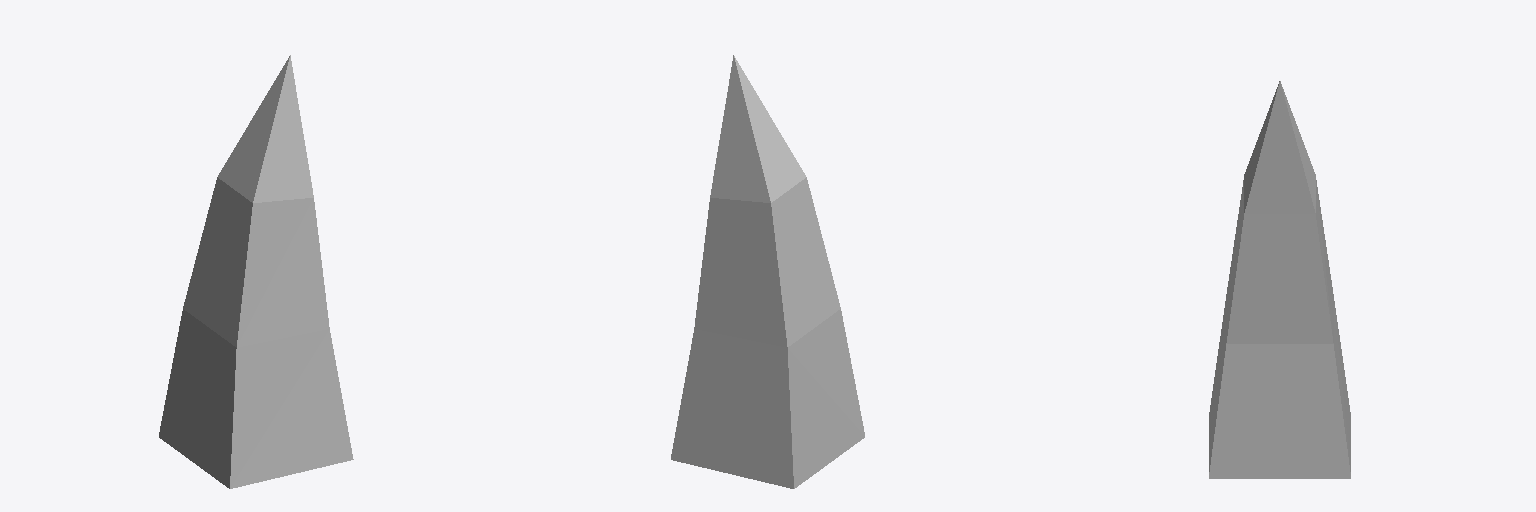
Rendered from skeletal_000003.obj.
3 views of the same model, side by side, from view 1: azimuth 30°, elevation 25°; view 2: azimuth 150°, elevation 25°; view 3: azimuth 270°, elevation 25° (orthographic).
Visible parts, largest first — view 1: Cube; view 2: Cube; view 3: Cube.
Boxes of the visible parts, box(x1,y1,x2,y2) form: Cube: box(159, 55, 353, 488); Cube: box(671, 55, 864, 488); Cube: box(1209, 81, 1350, 478).
Size of the model in its own units: 2 by 5.96 by 2.